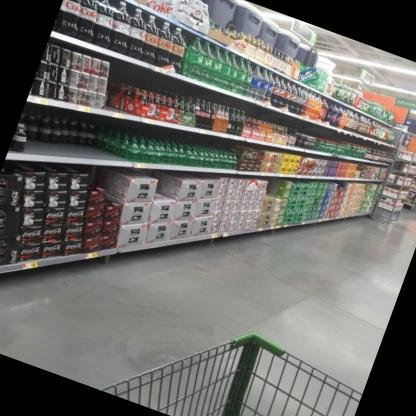empty_space: (37, 134, 121, 177), (103, 87, 129, 114), (294, 142, 303, 149)
